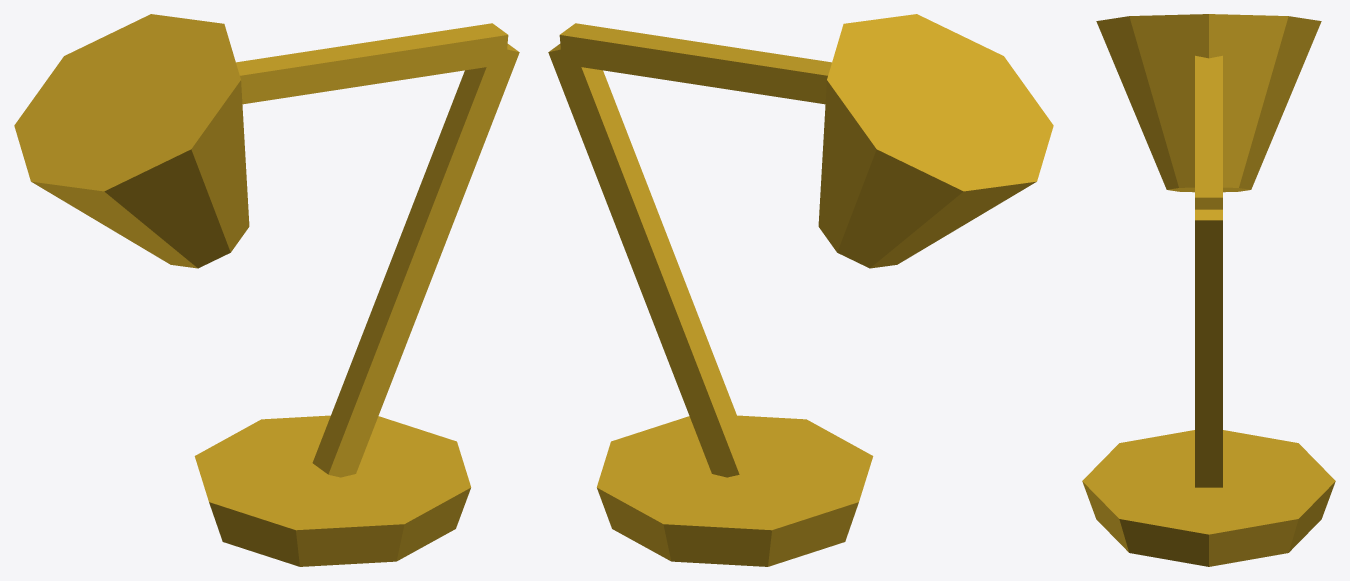
Rendered from table-lamp-14.glb.
The picture shows the model from 3 angles, left to right: view 1: azimuth 30°, elevation 25°; view 2: azimuth 150°, elevation 25°; view 3: azimuth 270°, elevation 25°; orthographic projection. The views are drawn at different scales.
Visible parts, largest first — view 1: table_lamp_14; view 2: table_lamp_14; view 3: table_lamp_14.
Part boxes in pixels (x1,y1,x2,y2): table_lamp_14: (14,14,519,566); table_lamp_14: (548,14,1053,566); table_lamp_14: (1082,14,1335,566).
Bounding box in the file's own units: 0.349 × 0.359 × 0.18.
